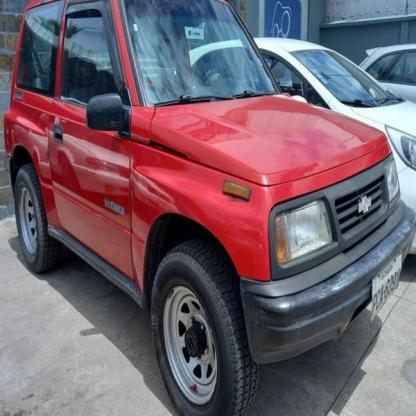Placa: (368, 254, 406, 324)
